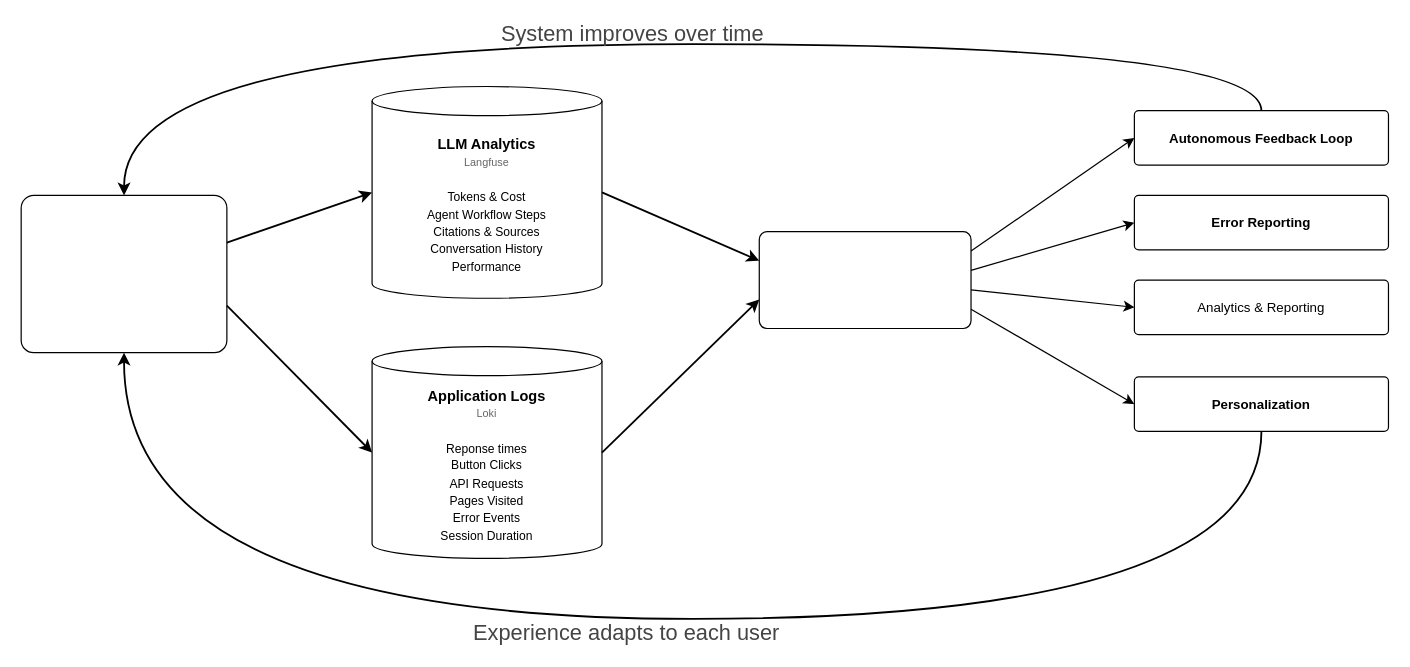
Some shapes in this 1410 by 667 pixel diagram are drawn without their labels. The box of each missing label's shape, as (x1, y1, x2, y2) in pixels:
Application AI Agent Workflows User Interactions System Processes: (20, 194, 227, 353)
Central Hub Grafana Aggregation & Monitoring: (758, 231, 971, 329)
